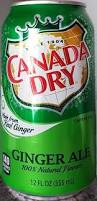Lata: (1, 2, 96, 199)
